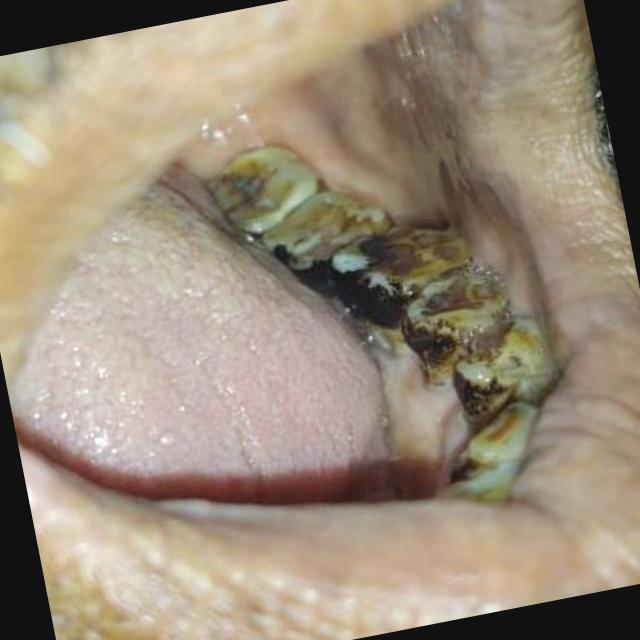Cancer: (192, 123, 562, 505), (372, 0, 553, 332)
